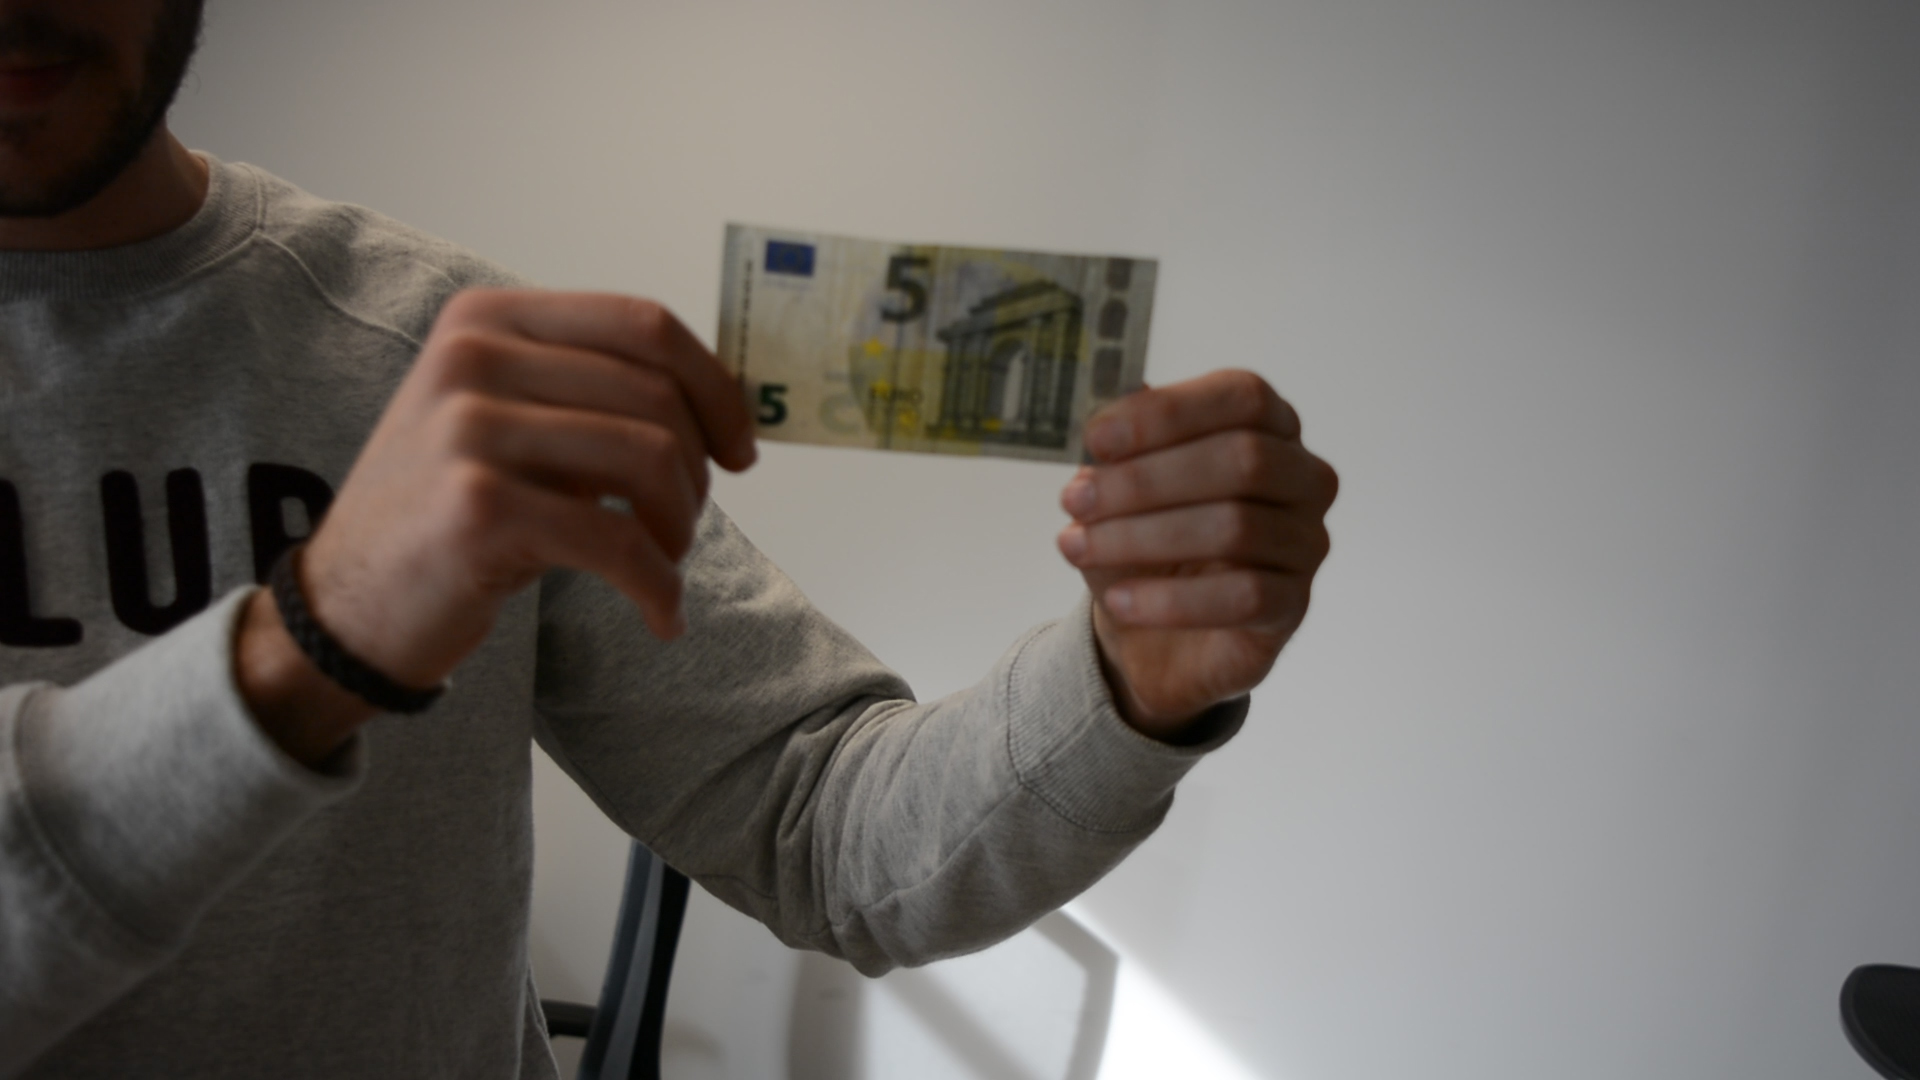billete: (713, 219, 1164, 469)
